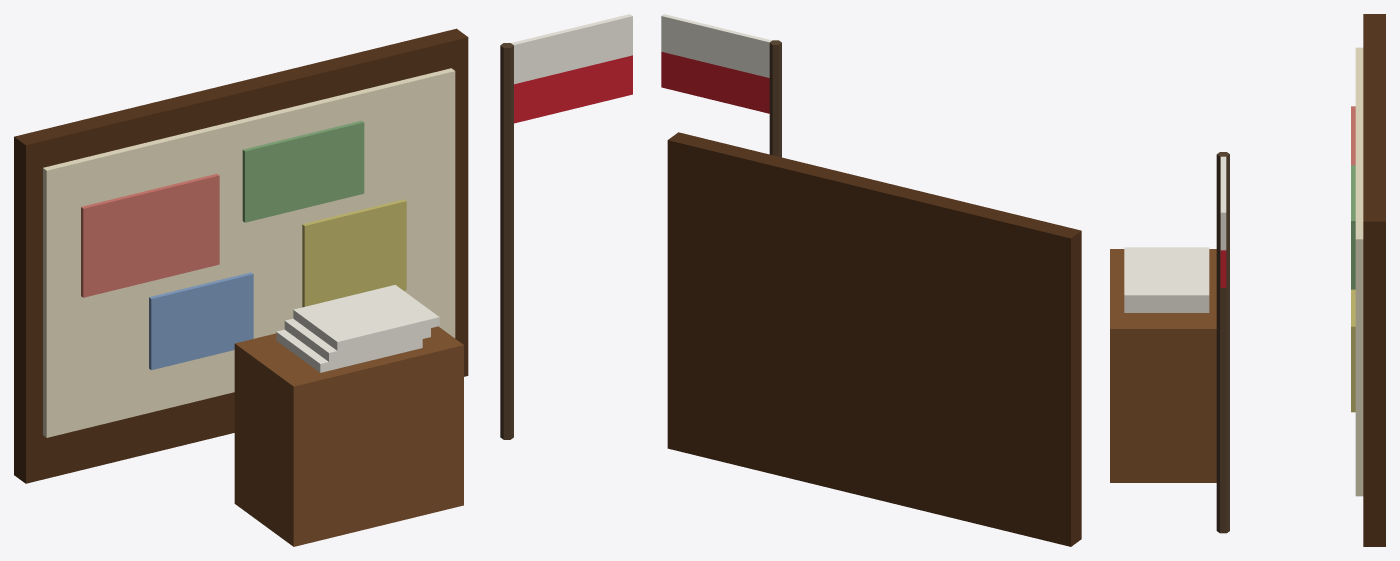
The model's file is memorial.glb.
The picture shows the model from 3 angles, left to right: view 1: azimuth 30°, elevation 25°; view 2: azimuth 150°, elevation 25°; view 3: azimuth 270°, elevation 25°; orthographic projection. The views are drawn at different scales.
Visible parts, largest first — view 1: memorial; view 2: memorial; view 3: memorial.
Boxes of the visible parts, box(x1,y1,x2,y2) form: memorial: box(14, 14, 632, 546); memorial: box(661, 14, 1081, 546); memorial: box(1110, 14, 1385, 546).
Bounding box in the file's own units: 3.13 × 2.2 × 1.46.
